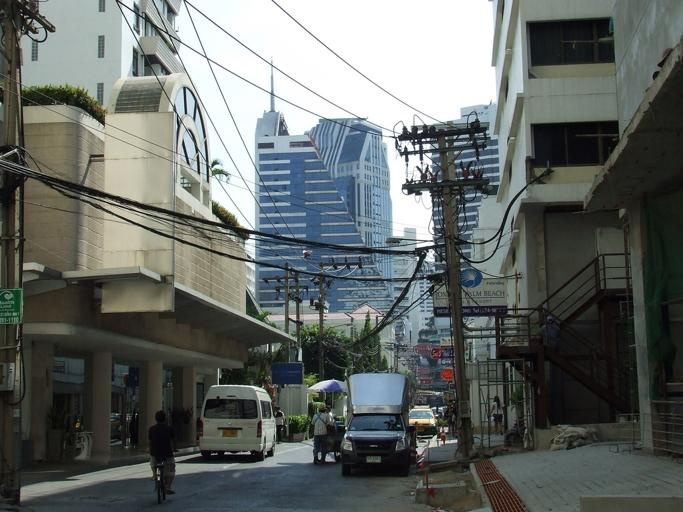non-vehicle: (145, 448, 179, 505), (330, 438, 341, 462)
